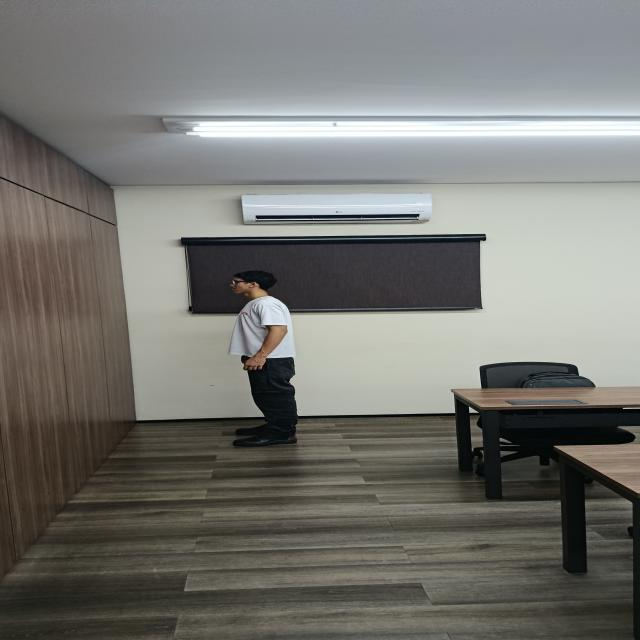sem_oculos: (232, 280, 245, 284)
